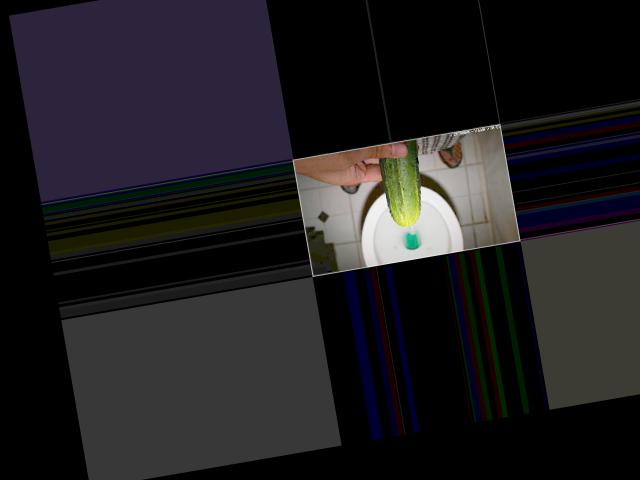cucumber: (377, 137, 430, 228)
